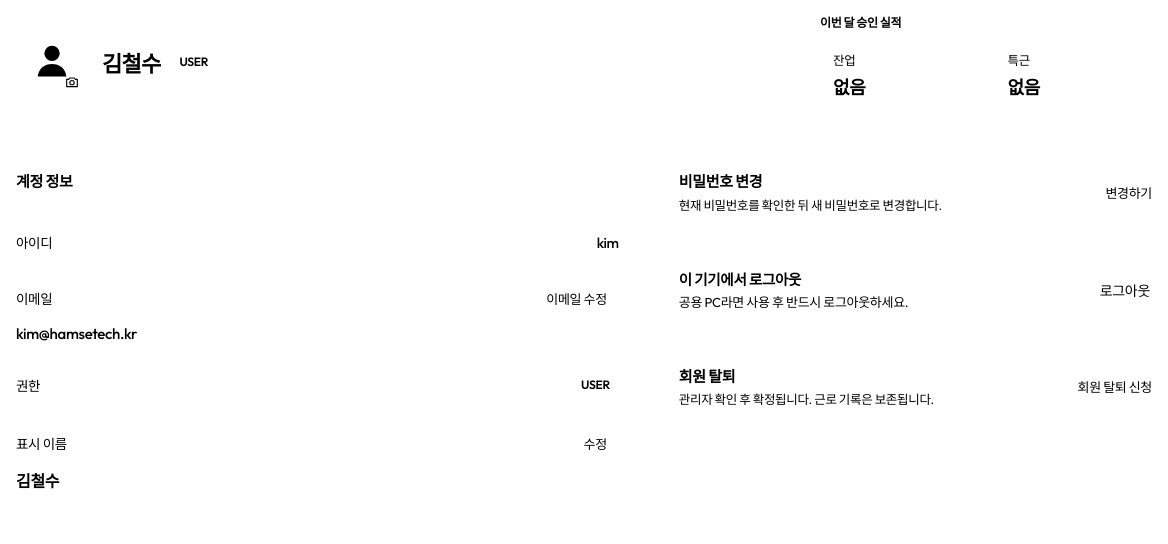
Scenario: ProfilePage — 표시 이름 › 저장하면 헤더 칩도 따라간다
Expected: the text "김철수" in the row of "잔업" is shown, x1=102 y1=50 x2=160 y2=78
Click the button "수정" at (595, 443), box x1=572 y1=427 x2=619 y2=459
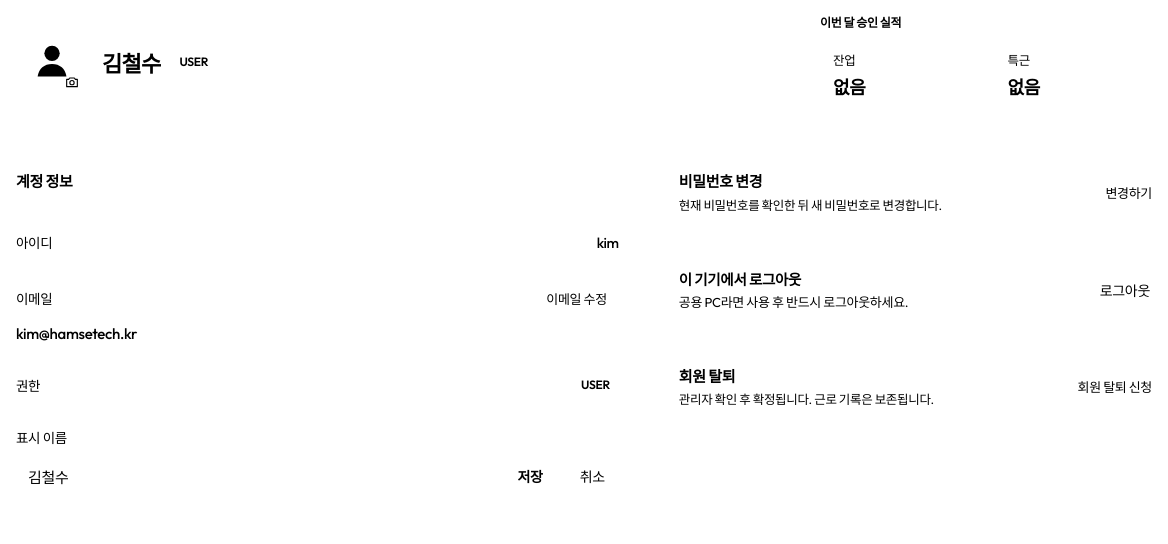
Replace the text in the field named "표시 이름" with "김영희" at (255, 476), box x1=16 y1=456 x2=494 y2=496
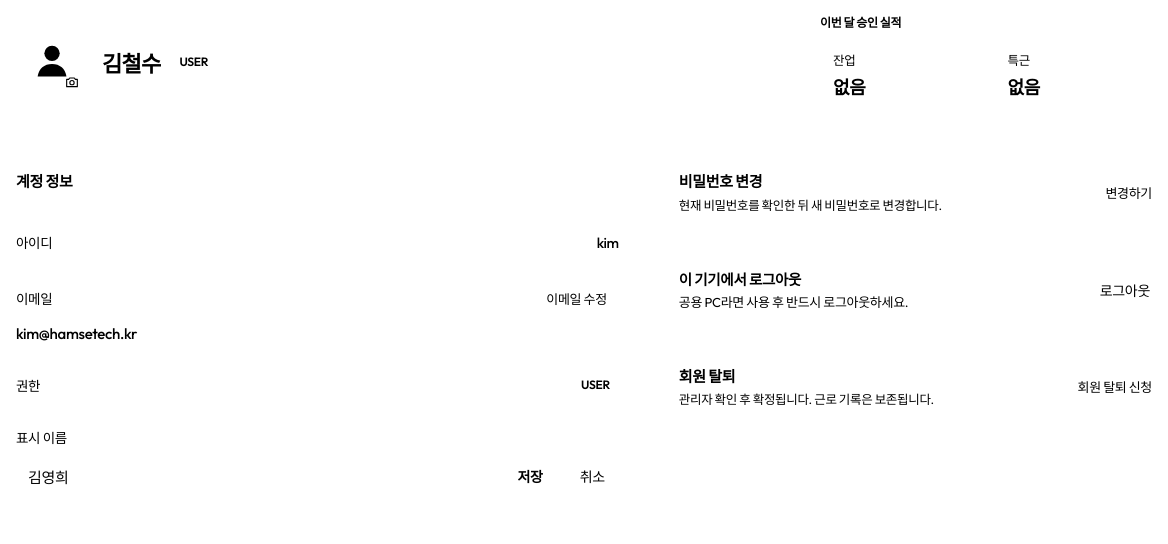
Click the button "저장" at (530, 476), box x1=504 y1=456 x2=557 y2=496
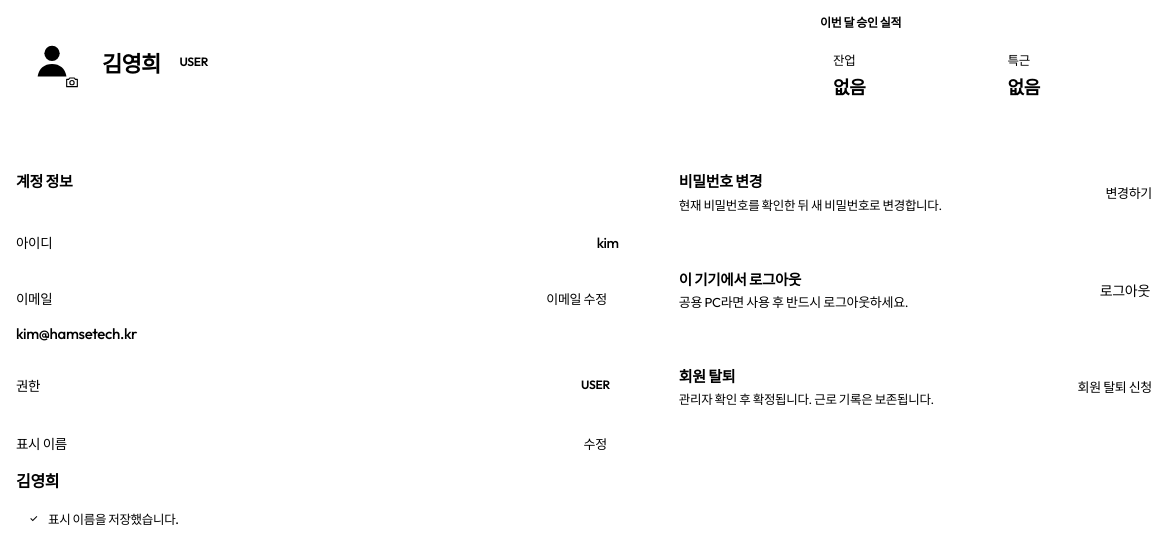
Now the text "표시 이름을 저장했습니다." is shown, box x1=48 y1=511 x2=179 y2=527
Now the text "김철수" in the row of "잔업" reads "김영희", box x1=102 y1=50 x2=160 y2=78
